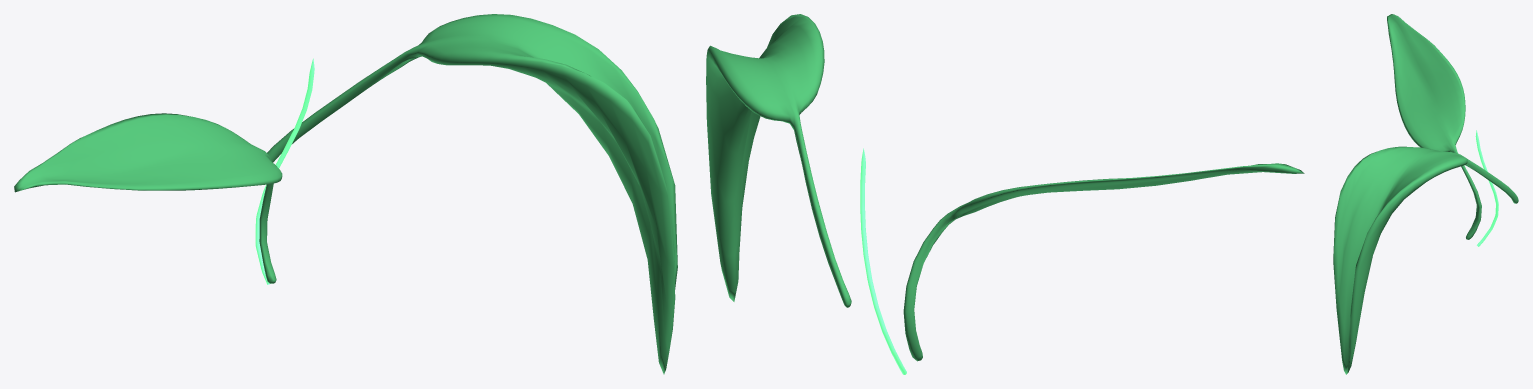
The model's file is Plant2_Small.fbx.
3 renders of one model, left to right at view 1: azimuth 30°, elevation 25°; view 2: azimuth 150°, elevation 25°; view 3: azimuth 270°, elevation 25°, orthographic. The views are drawn at different scales.
Visible parts, largest first — view 1: Leaf, Stem; view 2: Leaf, Stem; view 3: Leaf, Stem.
Part boxes in pixels (<box>): Leaf: <box>14,14,677,374</box>; Stem: <box>255,58,314,284</box>; Leaf: <box>706,14,1304,361</box>; Stem: <box>860,148,906,374</box>; Leaf: <box>1333,14,1518,374</box>; Stem: <box>1475,130,1498,246</box>.
Size of the model in its own units: 316 by 155 by 136.
